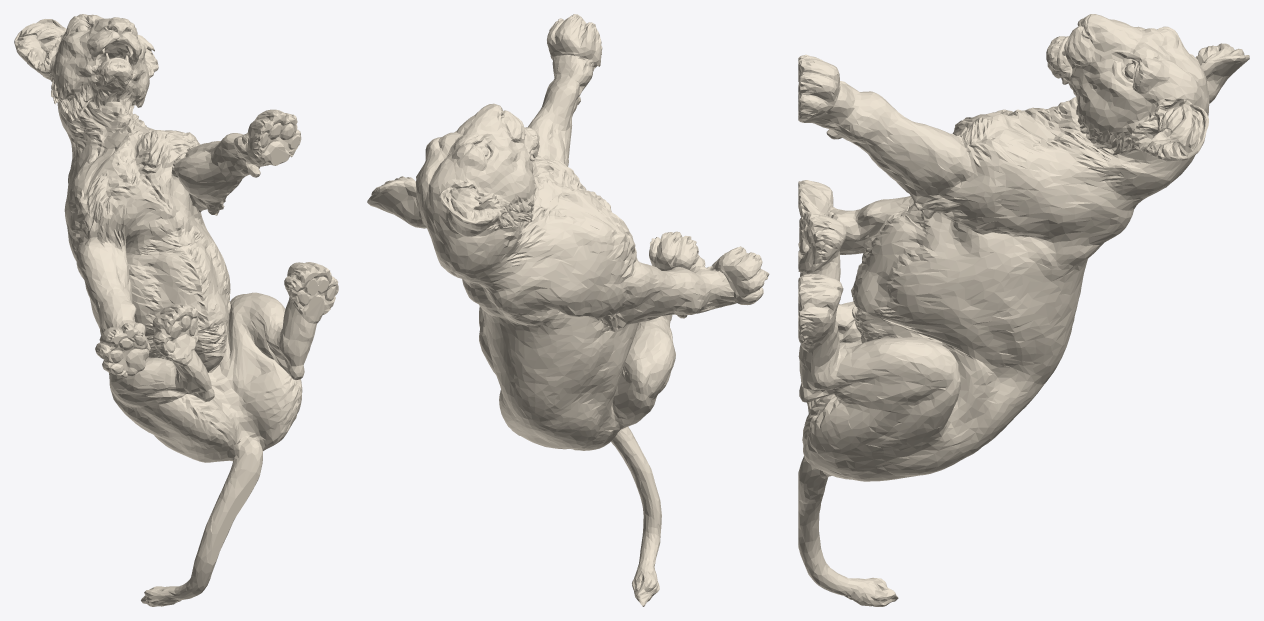
File: animal_lioncub_v1.glb
3 views of the same model, side by side, from view 1: azimuth 30°, elevation 25°; view 2: azimuth 150°, elevation 25°; view 3: azimuth 270°, elevation 25° (orthographic). The views are drawn at different scales.
Visible parts, largest first — view 1: lion-cub-playing-1-24; view 2: lion-cub-playing-1-24; view 3: lion-cub-playing-1-24.
Boxes of the visible parts, bbox=[...] form: lion-cub-playing-1-24: bbox=[14, 14, 338, 606]; lion-cub-playing-1-24: bbox=[367, 14, 769, 606]; lion-cub-playing-1-24: bbox=[798, 14, 1249, 606].
Bounding box in the file's own units: 16.78 × 34.64 × 22.87.
